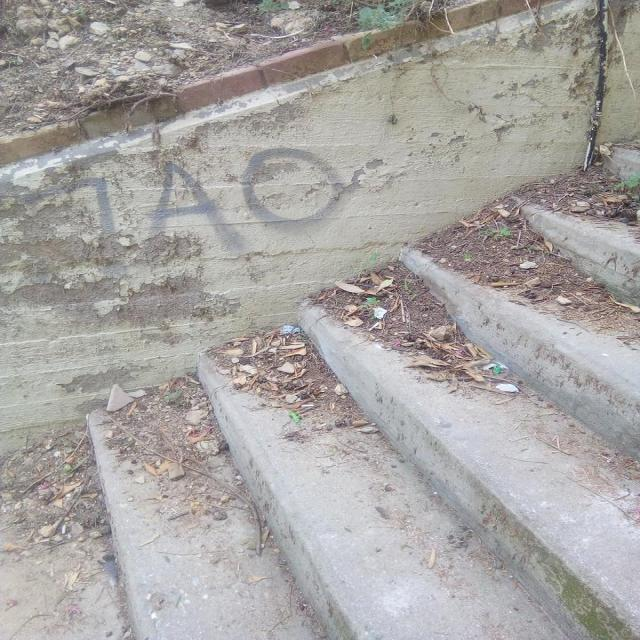nonspitting: (25, 146, 346, 250)
